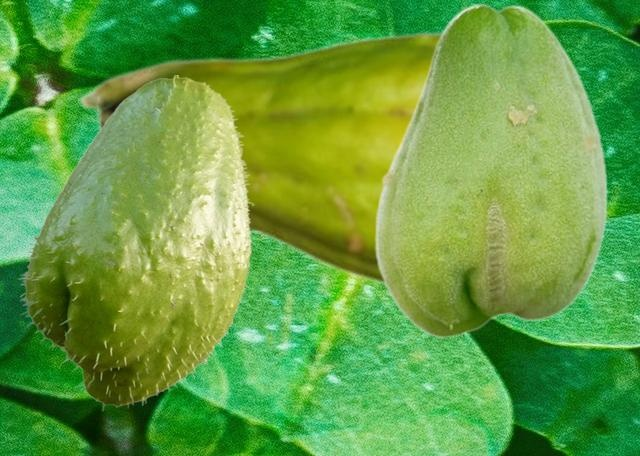sayote: (77, 30, 441, 288), (17, 75, 253, 410), (373, 2, 607, 337)
